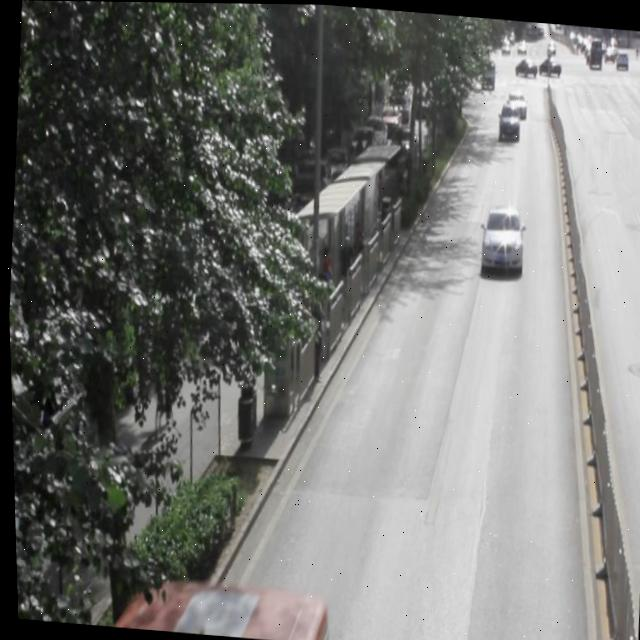car: (475, 201, 522, 272), (495, 100, 519, 142)
van: (98, 567, 328, 640)
